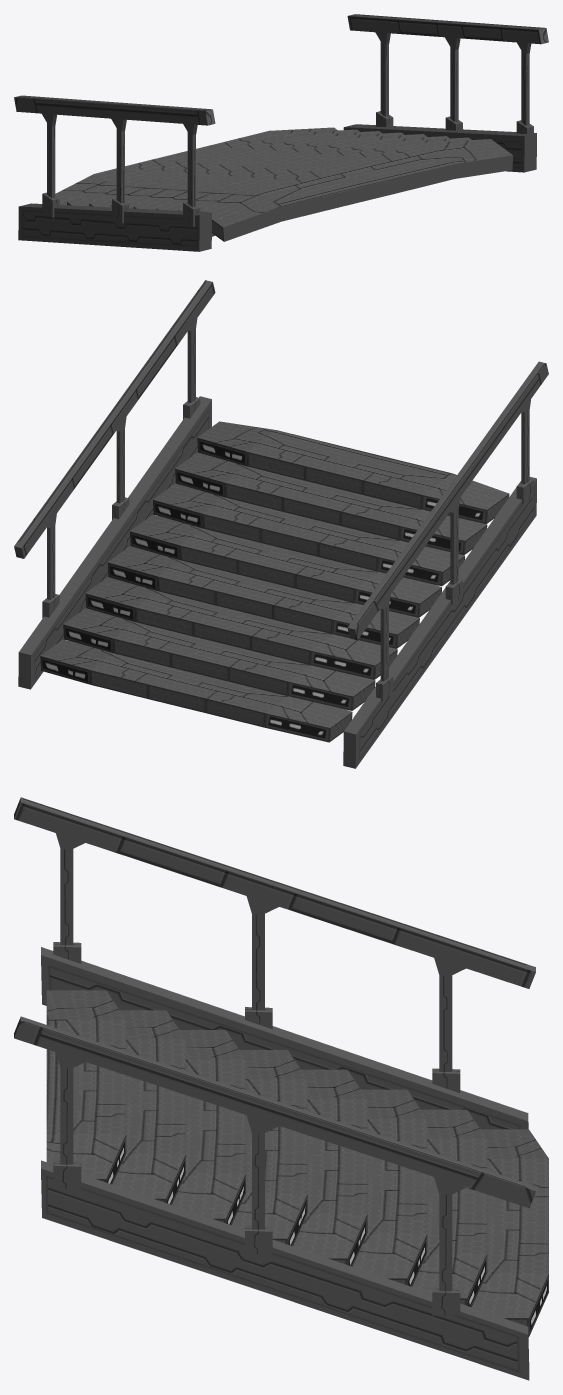
Rendered from Steps 01.fbx.
The picture shows the model from 3 angles, top to bottom: view 1: azimuth 30°, elevation 25°; view 2: azimuth 150°, elevation 25°; view 3: azimuth 270°, elevation 25°; orthographic projection. The views are drawn at different scales.
Visible parts, largest first — view 1: Steps 01; view 2: Steps 01; view 3: Steps 01.
Boxes of the visible parts, bbox=[...] form: Steps 01: bbox=[14, 14, 548, 251]; Steps 01: bbox=[14, 280, 548, 768]; Steps 01: bbox=[14, 797, 548, 1380].
Bounding box in the file's own units: 266 × 200 × 268.
